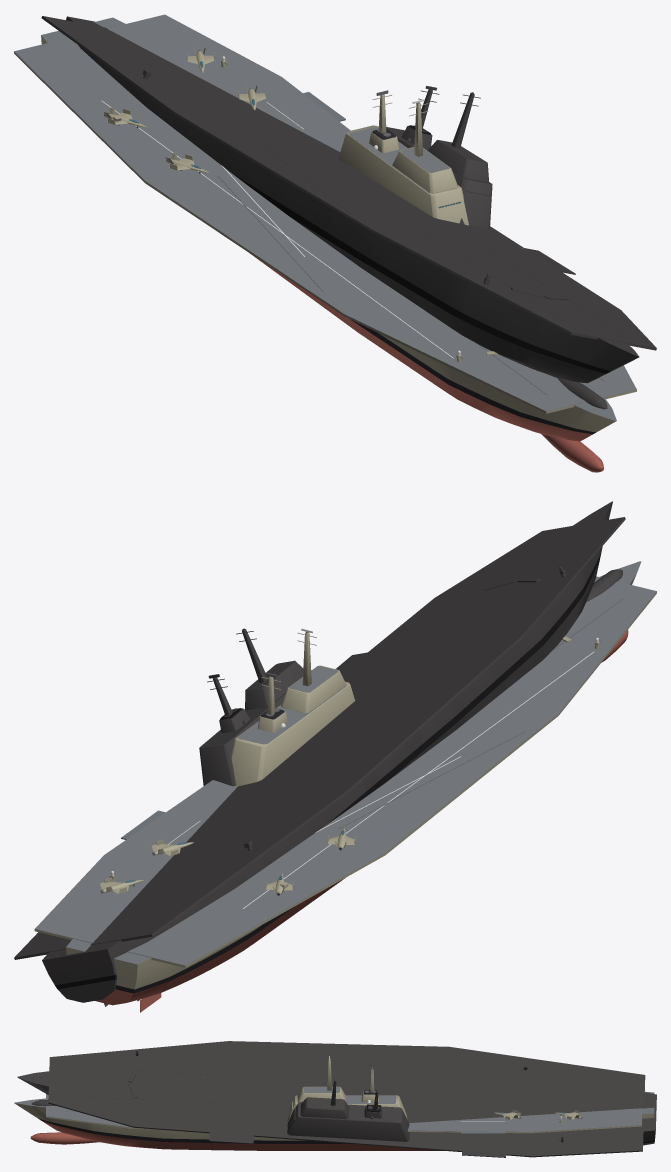
File: carrier__fujian.glb
3 views of the same model, one above another, from view 1: azimuth 30°, elevation 25°; view 2: azimuth 150°, elevation 25°; view 3: azimuth 270°, elevation 25° (orthographic). The views are drawn at different scales.
Visible parts, largest first — view 1: Hull_Mesh, Wreck; view 2: Wreck, Hull_Mesh; view 3: Wreck, Hull_Mesh.
Part boxes in pixels (bbox=[...]): Hull_Mesh: bbox=[14, 14, 636, 472]; Wreck: bbox=[41, 16, 656, 409]; Wreck: bbox=[14, 501, 625, 1006]; Hull_Mesh: bbox=[34, 561, 656, 1012]; Wreck: bbox=[17, 1041, 656, 1157]; Hull_Mesh: bbox=[14, 1059, 654, 1150].
Size of what is drawn, in the model's own units: 85.54 by 60.82 by 331.
